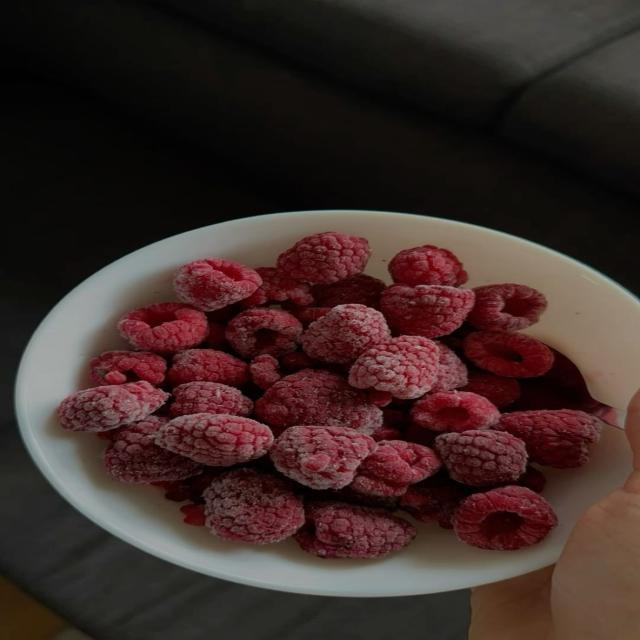raspberry: (255, 370, 382, 434), (204, 469, 305, 544), (294, 502, 416, 558), (270, 426, 376, 489), (453, 486, 557, 550), (104, 416, 200, 483), (495, 410, 603, 468), (156, 413, 273, 466), (349, 336, 439, 398), (58, 382, 168, 431), (514, 350, 599, 412), (302, 305, 390, 363), (434, 431, 526, 486), (380, 285, 474, 338), (351, 441, 441, 496), (277, 232, 370, 283), (174, 258, 261, 311), (119, 303, 208, 353), (464, 331, 553, 377), (400, 474, 473, 528), (226, 308, 302, 358), (467, 284, 546, 330), (411, 391, 499, 432), (389, 246, 467, 286), (167, 349, 249, 386), (240, 268, 313, 308), (170, 382, 253, 416), (90, 351, 166, 386), (313, 274, 386, 308), (308, 486, 399, 512), (459, 371, 520, 407), (431, 342, 467, 392), (186, 467, 228, 503), (127, 382, 168, 416), (439, 322, 477, 355), (500, 466, 546, 493), (282, 304, 331, 326), (250, 355, 281, 389), (403, 423, 440, 447), (280, 352, 322, 372), (515, 466, 546, 493), (206, 303, 243, 325), (206, 322, 228, 350), (372, 424, 402, 442), (383, 408, 408, 429), (180, 504, 205, 525), (367, 389, 393, 407), (165, 485, 190, 501)
